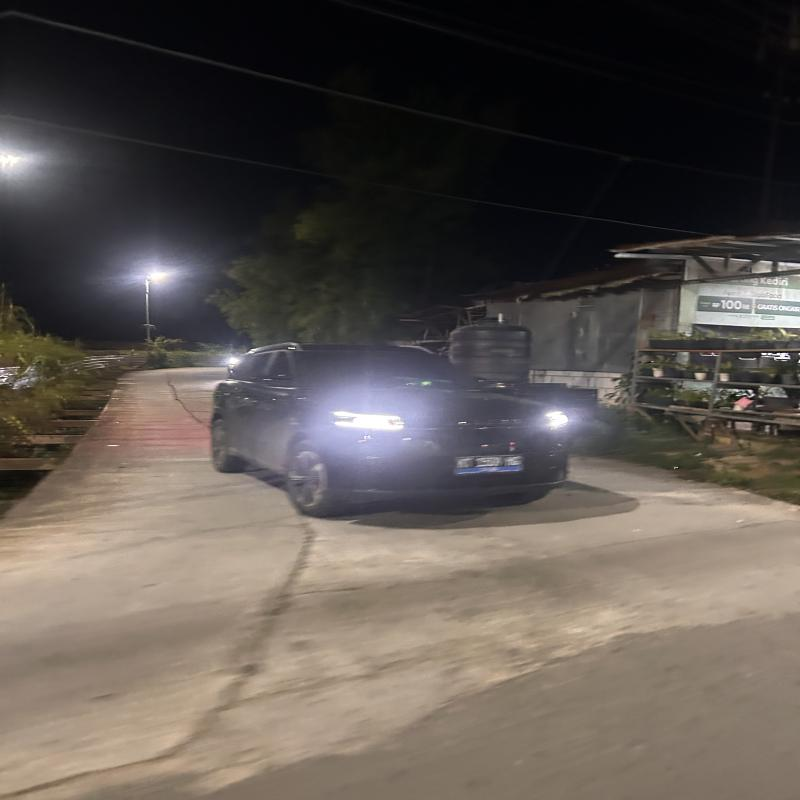license plate on a car: (451, 451, 530, 479)
